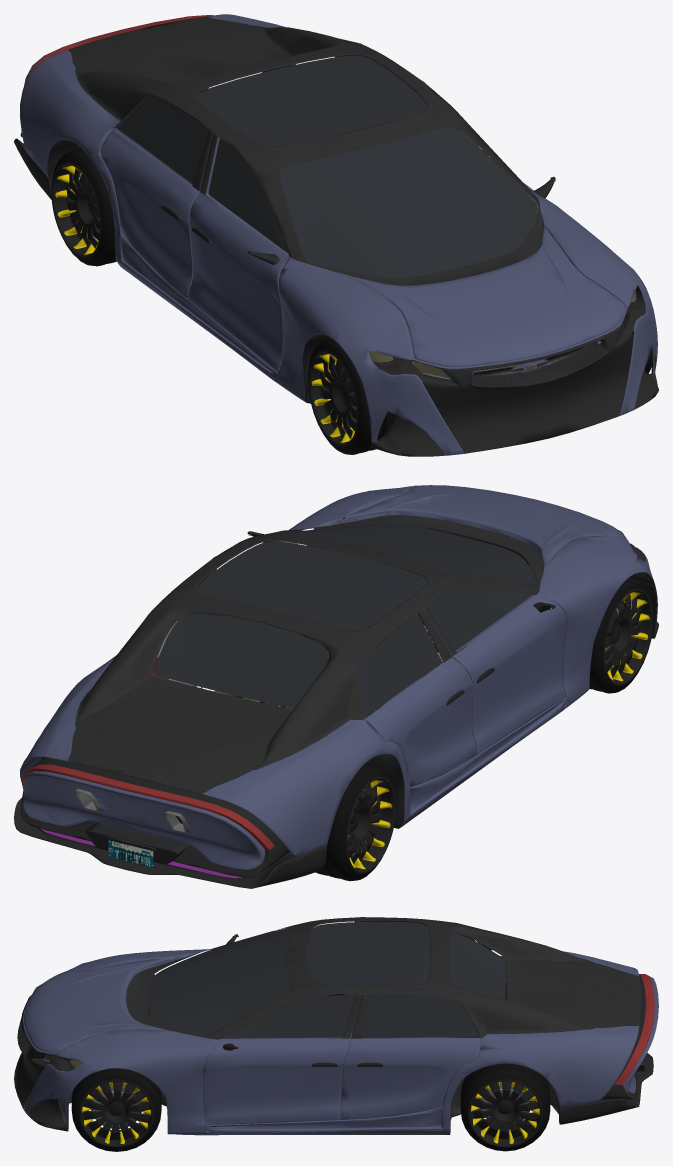
File: nexus_rx.glb
The picture shows the model from 3 angles, top to bottom: view 1: azimuth 30°, elevation 25°; view 2: azimuth 150°, elevation 25°; view 3: azimuth 270°, elevation 25°; orthographic projection. The views are drawn at different scales.
Parts seen in each view (by area): view 1: Body_low_Outside_0, Windows_low_Tires And Windows_0, Rim RR_low, Rim FR_low, Tire RR_low, Tire FR_low; view 2: Body_low_Outside_0, Windows_low_Tires And Windows_0, Rim FR_low, Rim RR_low, Tire RR_low, Tire FR_low, License Plate Rear_low_Decals_0; view 3: Body_low_Outside_0, Windows_low_Tires And Windows_0, Rim RL_low, Rim FL_low, Tire RL_low, Tire FL_low.
Part boxes in pixels (<box>): Body_low_Outside_0: <box>14,14,658,456</box>; Windows_low_Tires And Windows_0: <box>118,55,537,277</box>; Rim RR_low: <box>51,162,101,258</box>; Rim FR_low: <box>308,350,358,447</box>; Tire RR_low: <box>51,148,116,266</box>; Tire FR_low: <box>308,338,390,454</box>; Body_low_Outside_0: <box>14,485,658,888</box>; Windows_low_Tires And Windows_0: <box>153,523,537,716</box>; Rim FR_low: <box>603,588,653,685</box>; Rim RR_low: <box>346,777,395,873</box>; Tire RR_low: <box>315,763,396,881</box>; Tire FR_low: <box>589,576,653,693</box>; License Plate Rear_low_Decals_0: <box>108,840,153,867</box>; Body_low_Outside_0: <box>14,917,658,1135</box>; Windows_low_Tires And Windows_0: <box>147,920,505,1038</box>; Rim RL_low: <box>468,1079,542,1147</box>; Rim FL_low: <box>79,1079,153,1147</box>; Tire RL_low: <box>460,1063,550,1151</box>; Tire FL_low: <box>71,1068,161,1151</box>.
Bounding box in the file's own units: 1.9 × 1.16 × 4.58.
Materials: 5 (3 with a texture image).
